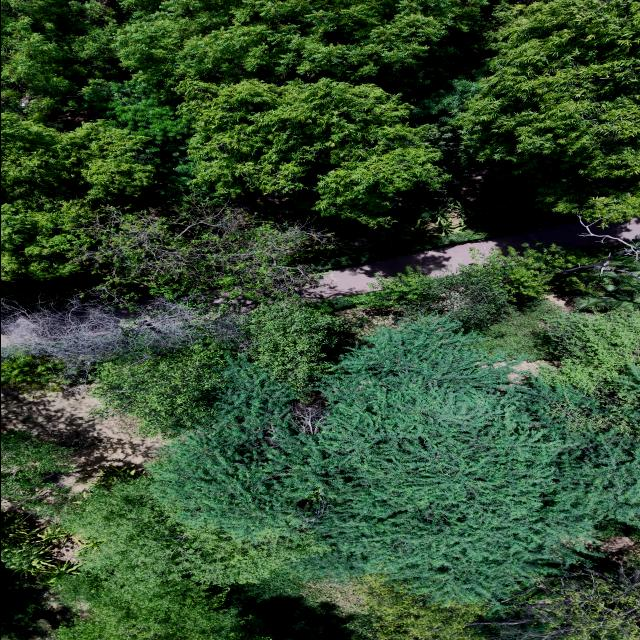DRY_AREA: (305, 221, 617, 299), (307, 222, 602, 298), (307, 222, 601, 298), (1, 386, 162, 489)
VEGETATION_TREE: (1, 0, 639, 639), (49, 248, 639, 639), (3, 0, 638, 293), (149, 317, 638, 600), (351, 247, 639, 434), (3, 1, 187, 279), (56, 477, 308, 639), (455, 0, 639, 220), (179, 78, 442, 223), (111, 0, 490, 96), (94, 301, 343, 435), (250, 563, 639, 639), (63, 476, 314, 587), (1, 112, 154, 279), (75, 205, 328, 297), (1, 294, 242, 382), (337, 245, 604, 324), (351, 566, 639, 639), (1, 430, 78, 639), (485, 304, 639, 399), (54, 572, 271, 639), (93, 337, 230, 436), (1, 430, 76, 583), (497, 562, 639, 639), (349, 575, 488, 639), (244, 302, 343, 389), (1, 430, 73, 503), (1, 512, 76, 582), (1, 567, 58, 639), (1, 353, 70, 390)
